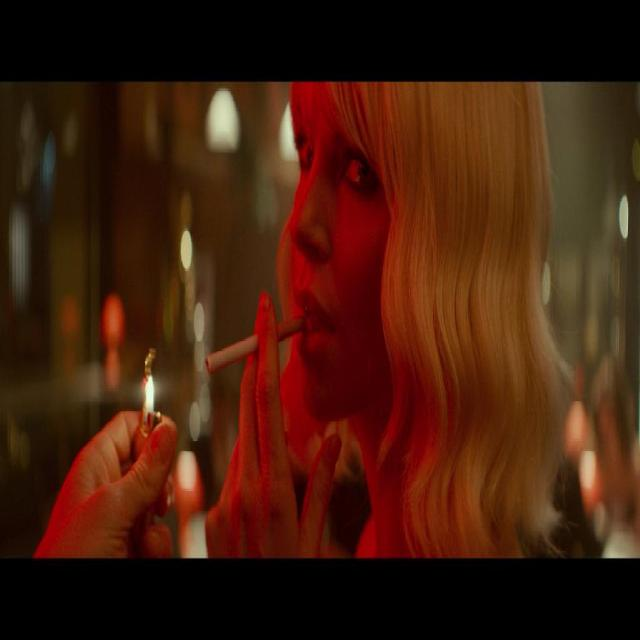smoking: (200, 84, 541, 443)
